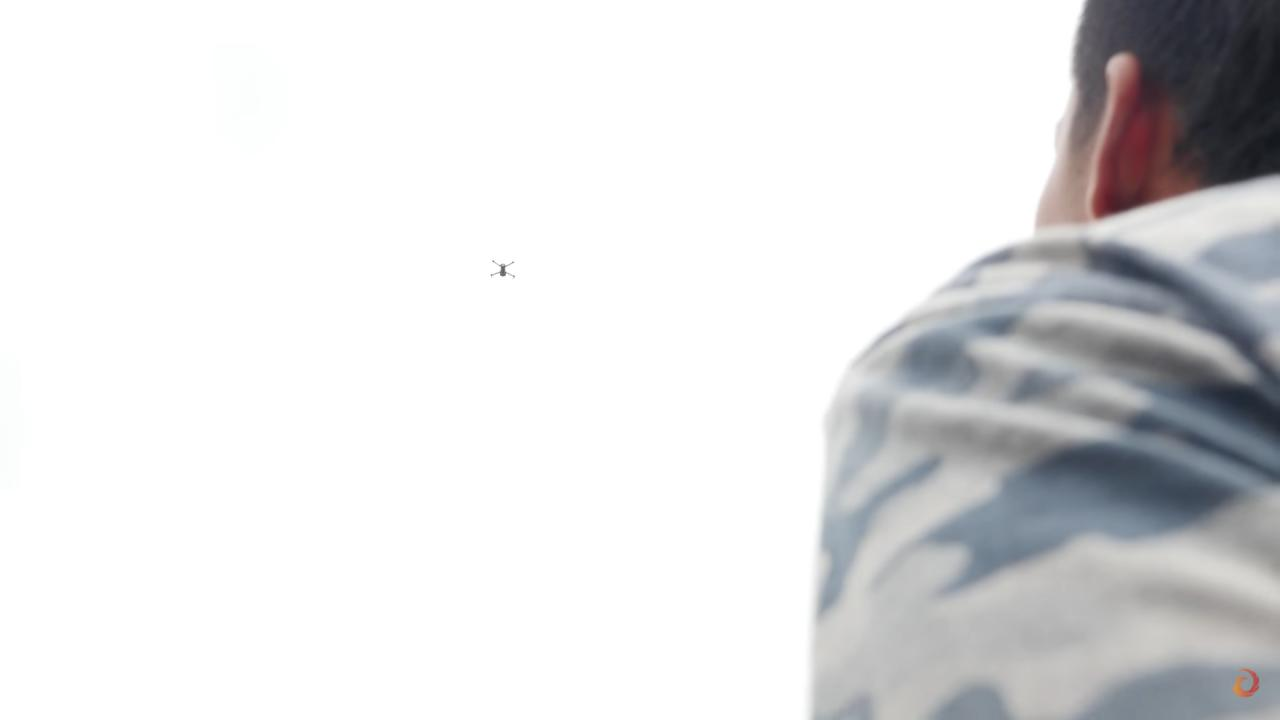Drone: (483, 253, 521, 286)
